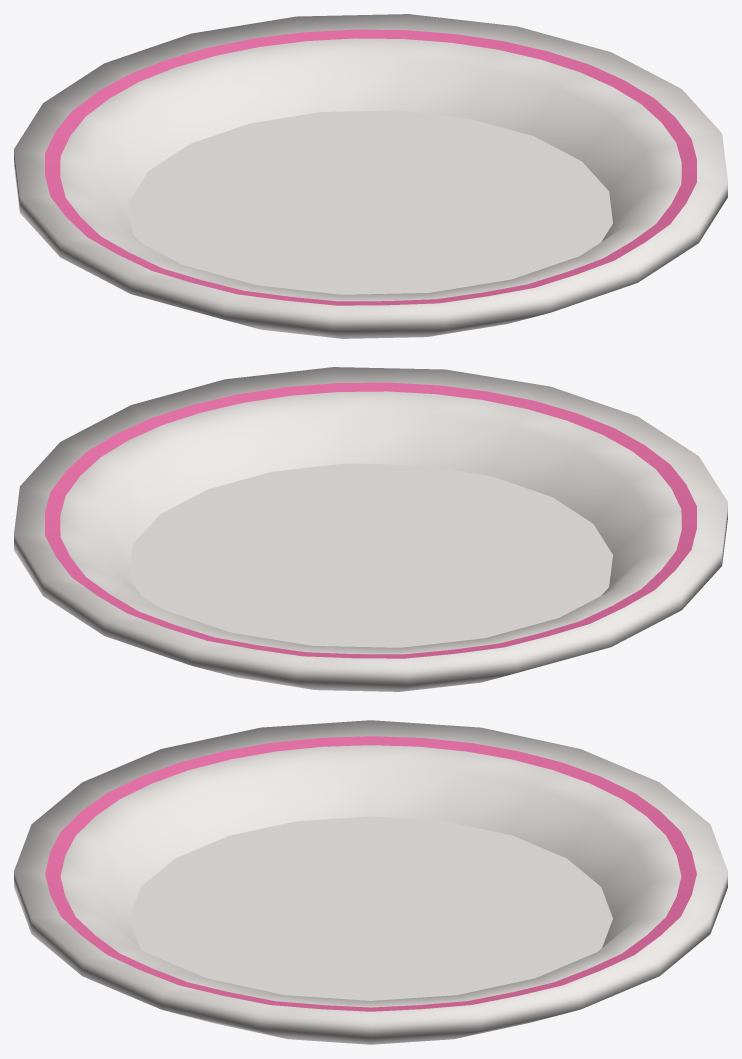
File: Plate.glb
The picture shows the model from 3 angles, top to bottom: view 1: azimuth 30°, elevation 25°; view 2: azimuth 150°, elevation 25°; view 3: azimuth 270°, elevation 25°; orthographic projection.
Visible parts, largest first — view 1: Plate; view 2: Plate; view 3: Plate.
Boxes of the visible parts, x1=… form: Plate: x1=14, y1=14, x2=727, y2=338; Plate: x1=14, y1=367, x2=727, y2=691; Plate: x1=14, y1=720, x2=727, y2=1044.
Size of the model in its own units: 0.7335 by 0.0681 by 0.7335.
1 material, 1 textured.
